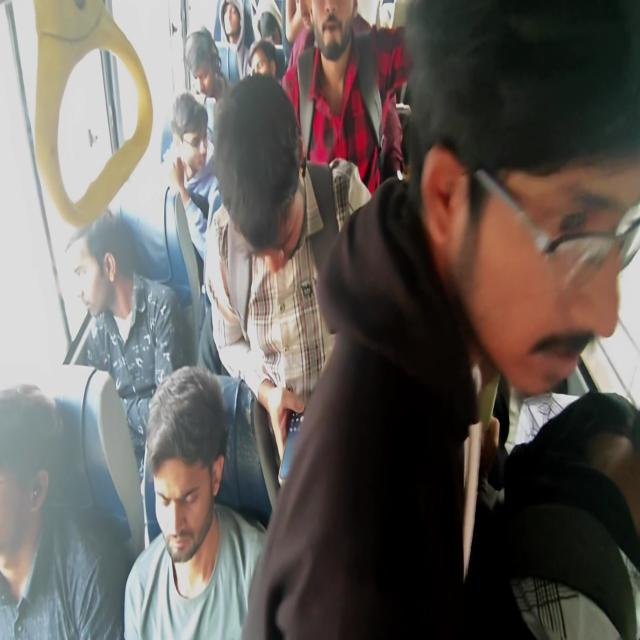person: (240, 0, 639, 638), (197, 72, 373, 502), (65, 210, 188, 550), (123, 364, 268, 638), (494, 390, 639, 638), (0, 382, 129, 639), (279, 0, 412, 195), (120, 91, 221, 297), (164, 91, 222, 261), (183, 26, 230, 143), (218, 0, 252, 81), (247, 39, 277, 79)
